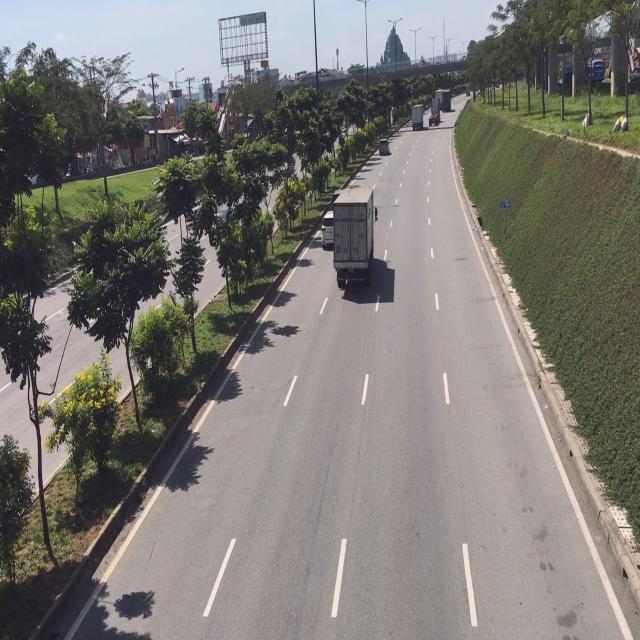car: (320, 209, 335, 247), (378, 138, 390, 156)
truck: (336, 186, 375, 292), (412, 103, 427, 129)
